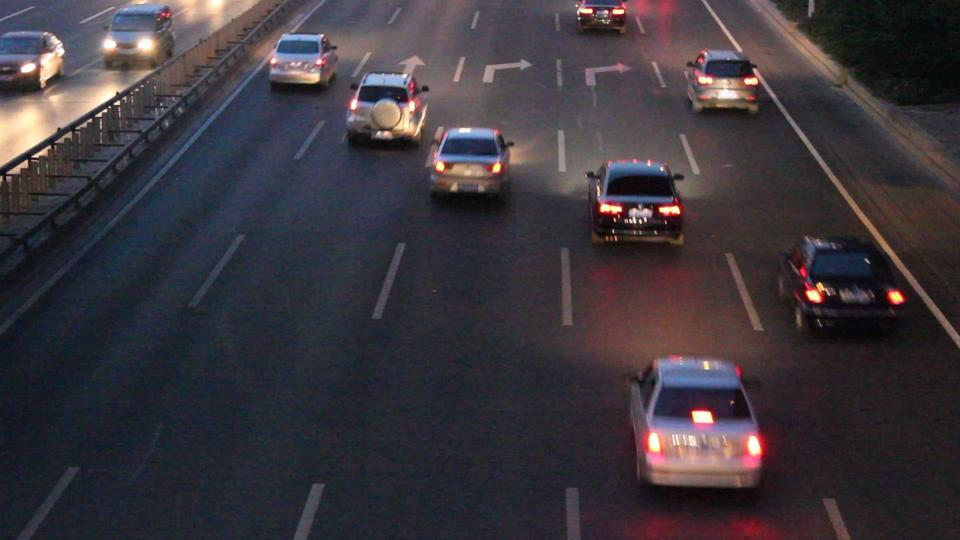car: (628, 354, 772, 491), (777, 233, 910, 336), (584, 158, 688, 247), (344, 69, 431, 148), (425, 127, 514, 204), (683, 48, 764, 115), (100, 2, 177, 69), (267, 32, 340, 91), (0, 30, 67, 92), (575, 0, 629, 34)
